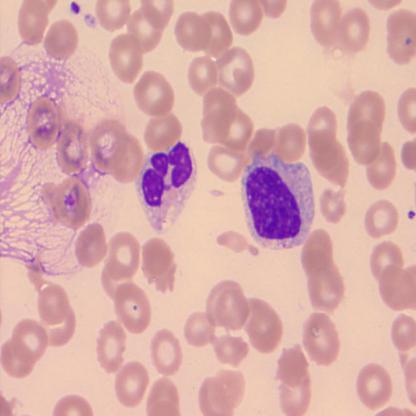Promyelocyte: (242, 152, 316, 254)
